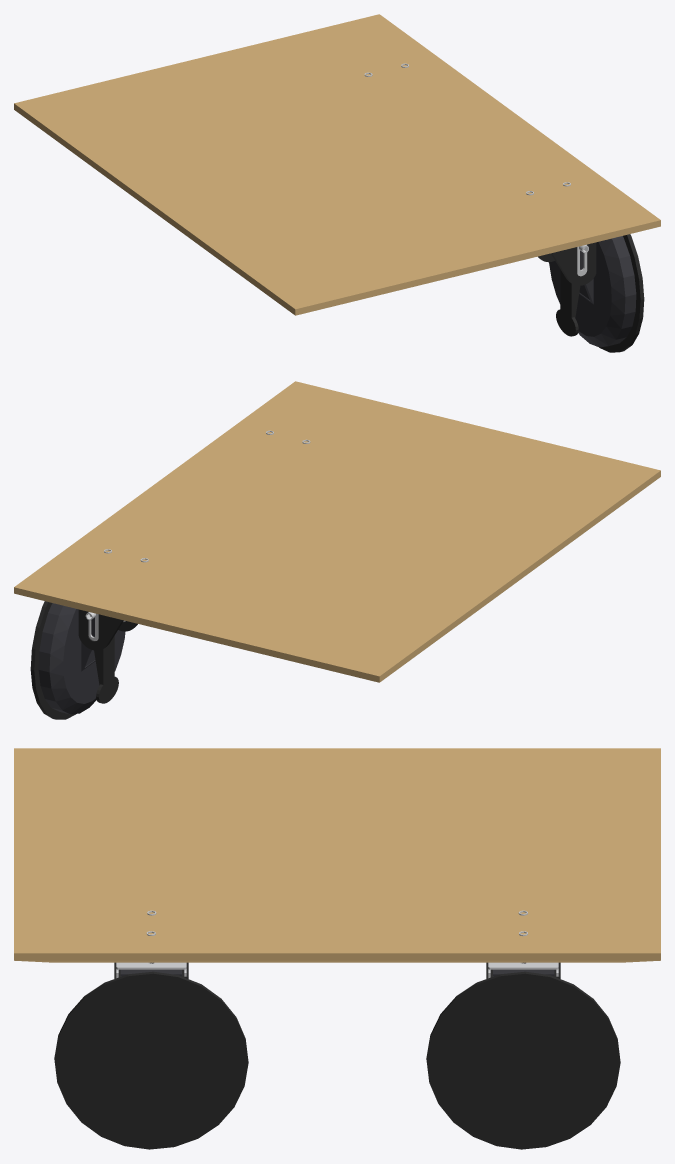
Rendered from escritorio.glb.
3 renders of one model, top to bottom at view 1: azimuth 30°, elevation 25°; view 2: azimuth 150°, elevation 25°; view 3: azimuth 270°, elevation 25°, orthographic. The views are drawn at different scales.
Visible parts, largest first — view 1: Wood_Floor_Light, Chris_Shirt, M_0137_Black; view 2: Wood_Floor_Light, Chris_Shirt, M_0137_Black; view 3: Wood_Floor_Light, M_0137_Black, Metal_Corrugated_Shiny, Chris_Shirt.
Boxes of the visible parts, x1,y1,x2,y2 form: Wood_Floor_Light: (14,14,660,315); Chris_Shirt: (549,236,636,347); M_0137_Black: (538,234,644,352); Wood_Floor_Light: (14,381,660,682); Chris_Shirt: (38,603,125,714); M_0137_Black: (30,601,137,719); Wood_Floor_Light: (14,748,660,962); M_0137_Black: (54,962,620,1149); Metal_Corrugated_Shiny: (116,910,558,978); Chris_Shirt: (120,963,554,976).
Size of the model in its own units: 0.3008 by 0.1342 by 0.4.
